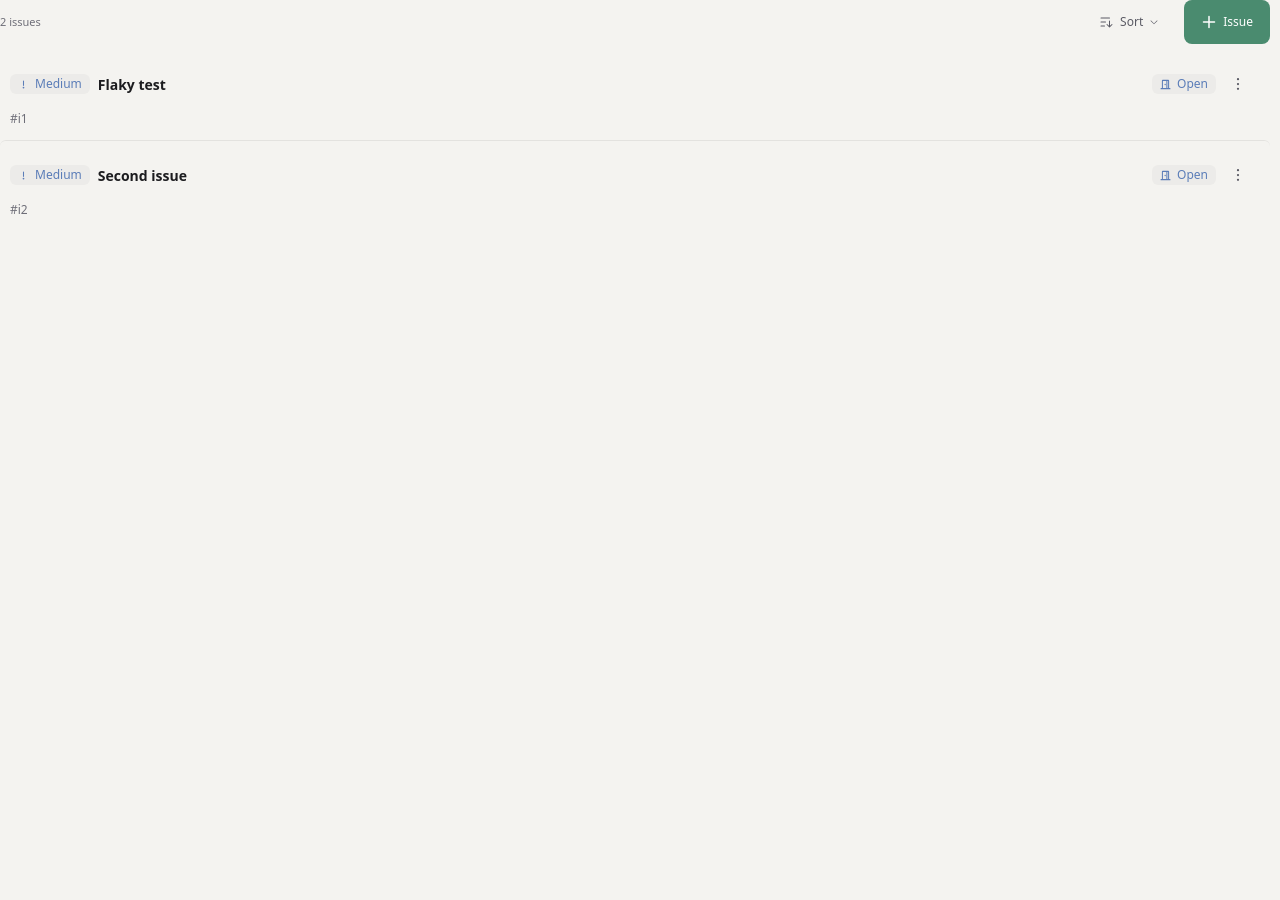
Test: IssuesPage mobile header › narrow: kebab Delete opens confirm dialog and closes menu
Click the button named "More actions for".
click(1238, 84)  # box [1216,62,1260,106]
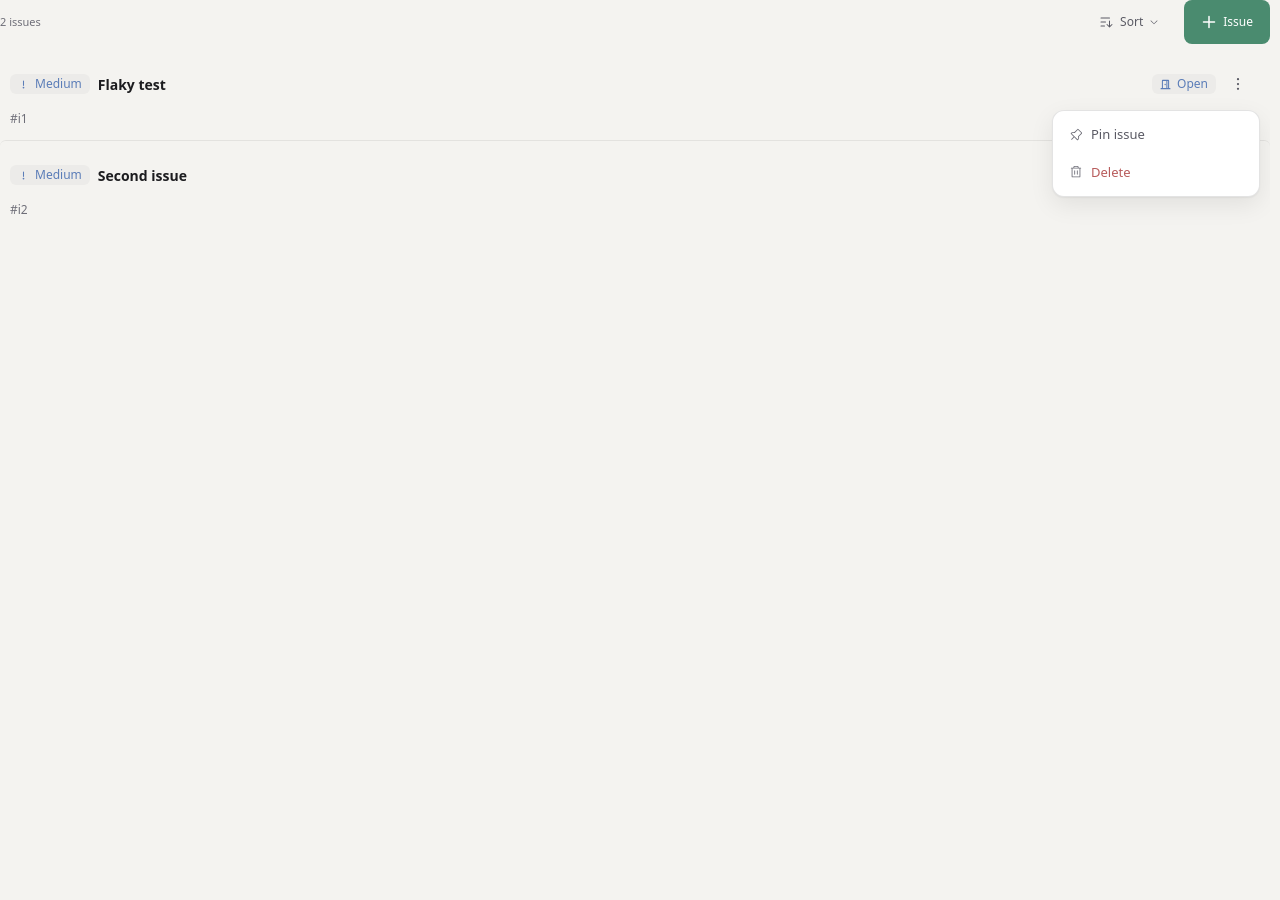
Click the menu item "Delete".
click(1156, 172)  # box [1059,154,1253,190]
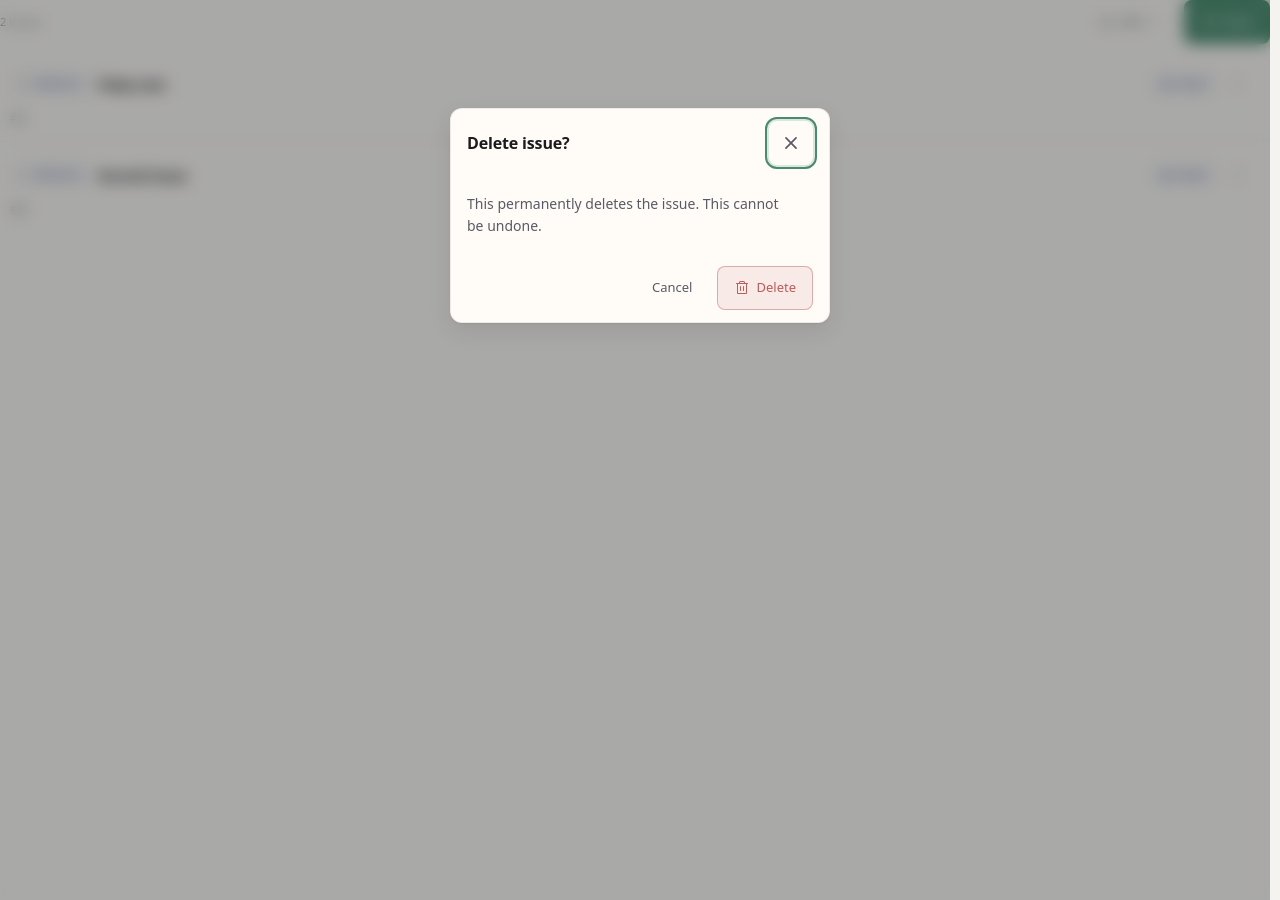
Result: the menu is gone
Result: the heading "Delete issue?" is shown at [467,133,570,153]
